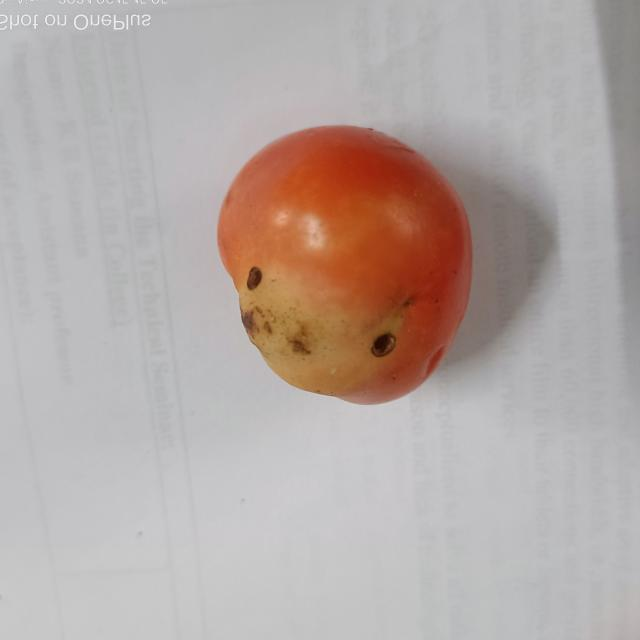fruitworm_bore: (363, 325, 402, 361), (242, 260, 270, 296)
